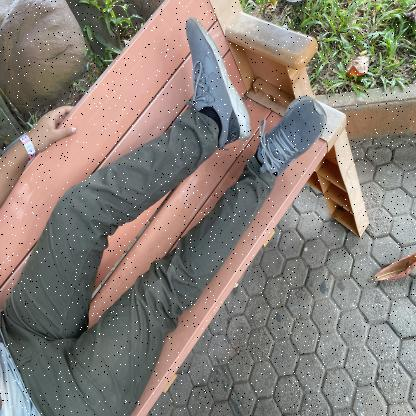hand: (0, 88, 82, 174)
leg: (130, 3, 260, 157), (235, 78, 336, 205)
